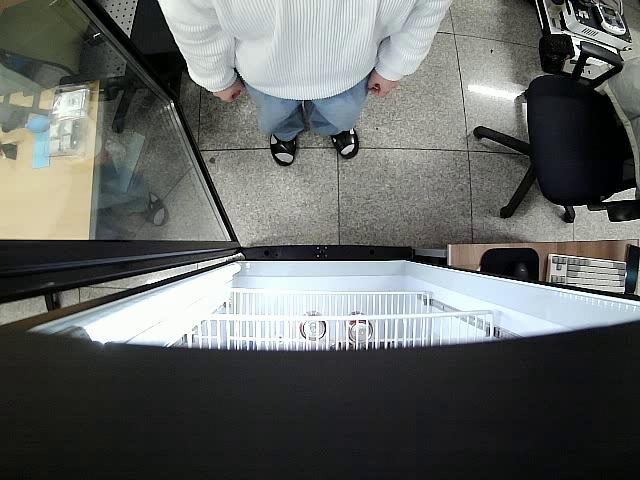00_hand: (365, 67, 402, 97), (211, 80, 245, 106)
